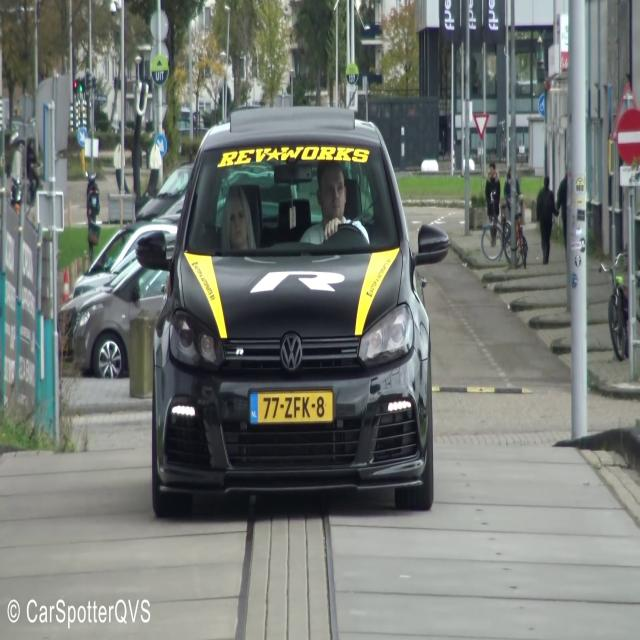number_plate: (246, 387, 336, 427)
